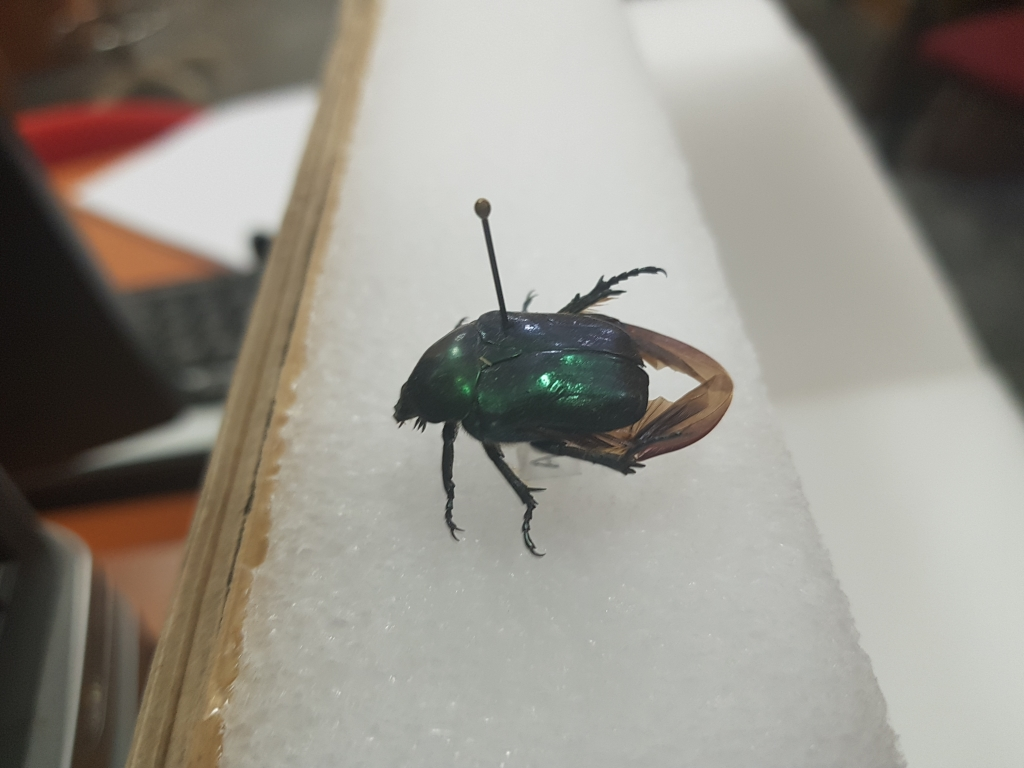Protaetia_angustata_angustata: (382, 259, 669, 562)
